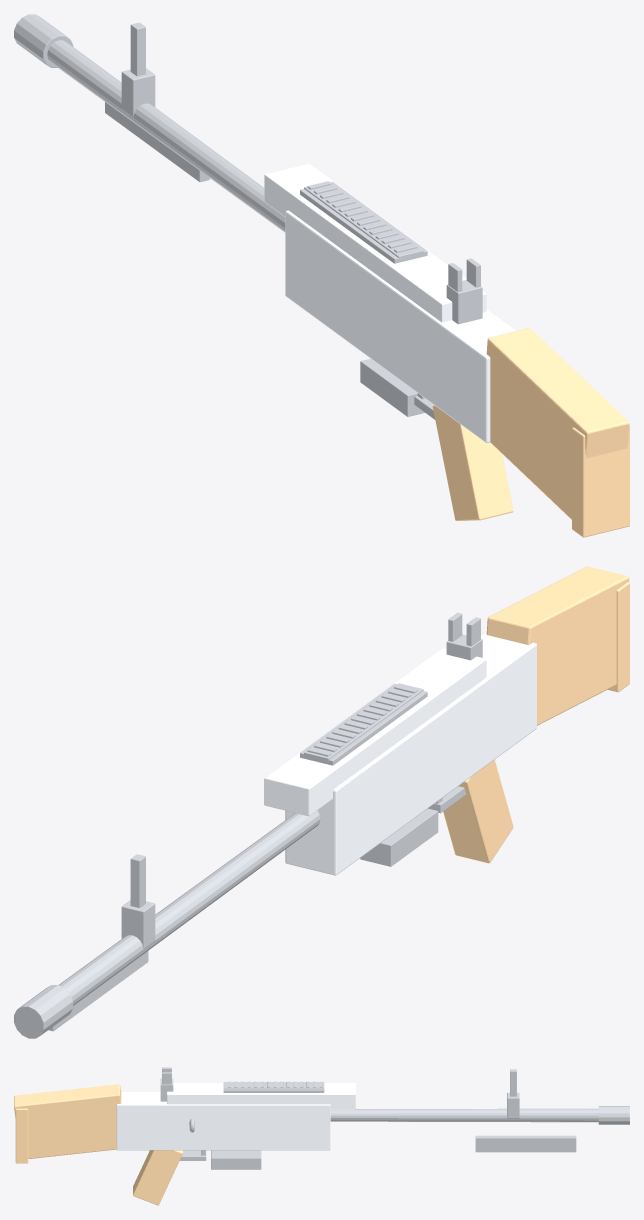
File: sks.glb
3 renders of one model, top to bottom at view 1: azimuth 30°, elevation 25°; view 2: azimuth 150°, elevation 25°; view 3: azimuth 270°, elevation 25°, orthographic. The views are drawn at different scales.
Parts seen in each view (by area): view 1: Receiver, StockGrip, ReceiverCover, Barrel, Grip, Stock, StockIrons, TopRail, MagFloorplate, Muzzle, Bayonet; view 2: Receiver, StockGrip, ReceiverCover, Barrel, Grip, TopRail, StockIrons, Muzzle, MagFloorplate, Stock, Bayonet; view 3: Receiver, StockGrip, Barrel, ReceiverCover, Bayonet, Grip, TopRail, MagFloorplate, StockIrons, Stock, Muzzle, TriggerGuard.
Part boxes in pixels (left/top/right/bottom): Receiver: left=285, top=210, right=515, bottom=442; StockGrip: left=486, top=328, right=629, bottom=519; ReceiverCover: left=264, top=163, right=486, bottom=322; Barrel: left=47, top=40, right=285, bottom=232; Grip: left=432, top=405, right=513, bottom=520; Stock: left=572, top=425, right=629, bottom=537; StockIrons: left=121, top=22, right=482, bottom=324; TopRail: left=300, top=181, right=427, bottom=263; MagFloorplate: left=360, top=358, right=424, bottom=416; Muzzle: left=14, top=14, right=73, bottom=67; Bayonet: left=105, top=102, right=209, bottom=181; Receiver: left=285, top=631, right=536, bottom=875; StockGrip: left=486, top=566, right=629, bottom=725; ReceiverCover: left=264, top=648, right=486, bottom=816; Barrel: left=59, top=810, right=320, bottom=1005; Grip: left=443, top=760, right=513, bottom=863; TopRail: left=300, top=683, right=427, bottom=765; StockIrons: left=121, top=612, right=482, bottom=948; Muzzle: left=14, top=985, right=73, bottom=1038; MagFloorplate: left=360, top=808, right=438, bottom=866; Stock: left=608, top=582, right=629, bottom=692; Bayonet: left=48, top=951, right=148, bottom=1031; Receiver: left=116, top=1092, right=330, bottom=1150; StockGrip: left=14, top=1084, right=121, bottom=1158; Barrel: left=330, top=1108, right=598, bottom=1122; ReceiverCover: left=167, top=1083, right=355, bottom=1108; Bayonet: left=475, top=1135, right=576, bottom=1152; Grip: left=133, top=1150, right=182, bottom=1205; TopRail: left=223, top=1081, right=324, bottom=1092; MagFloorplate: left=211, top=1150, right=261, bottom=1169; StockIrons: left=160, top=1067, right=519, bottom=1118; Stock: left=15, top=1108, right=28, bottom=1163; Muzzle: left=598, top=1106, right=629, bottom=1124; TriggerGuard: left=179, top=1150, right=206, bottom=1160.
Size of the model in its own units: 0.0663 by 0.2294 by 0.9779.
